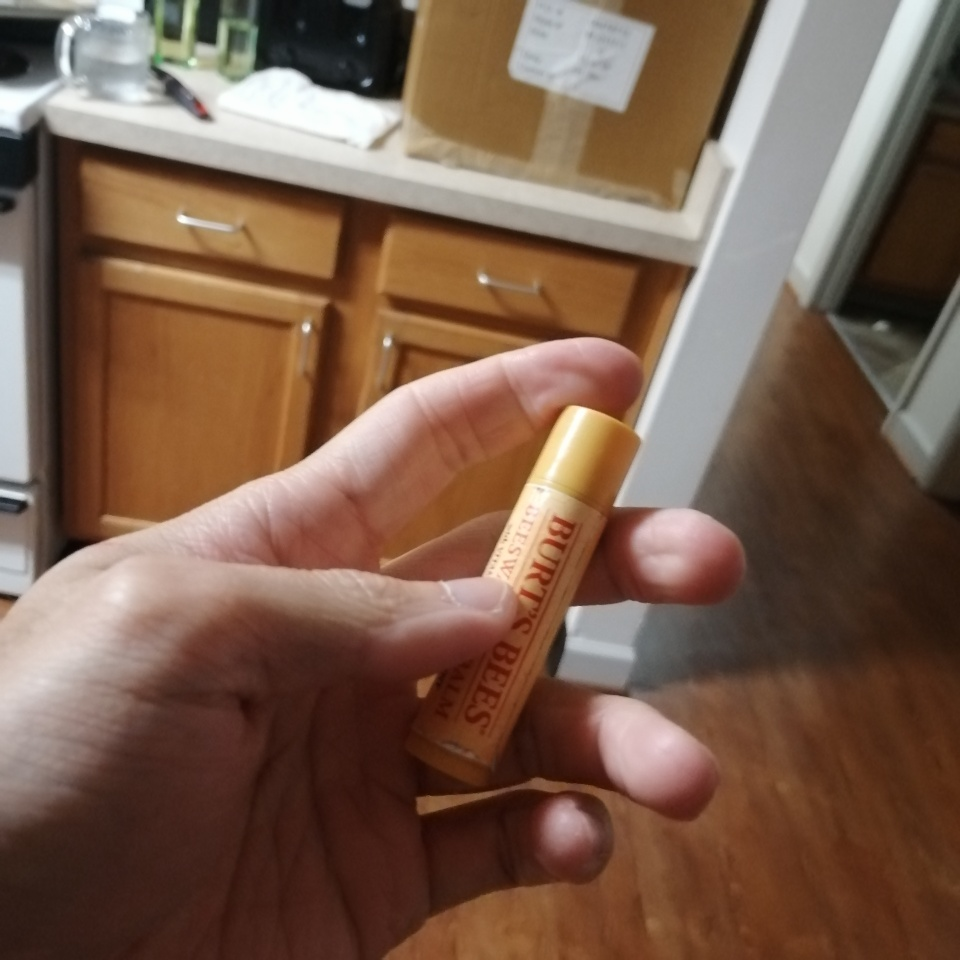chapstick: (405, 404, 644, 788)
